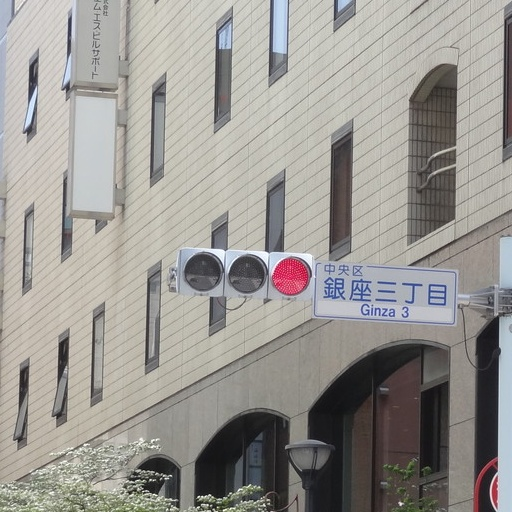Traffic_Signal_Red: (175, 240, 315, 300)
